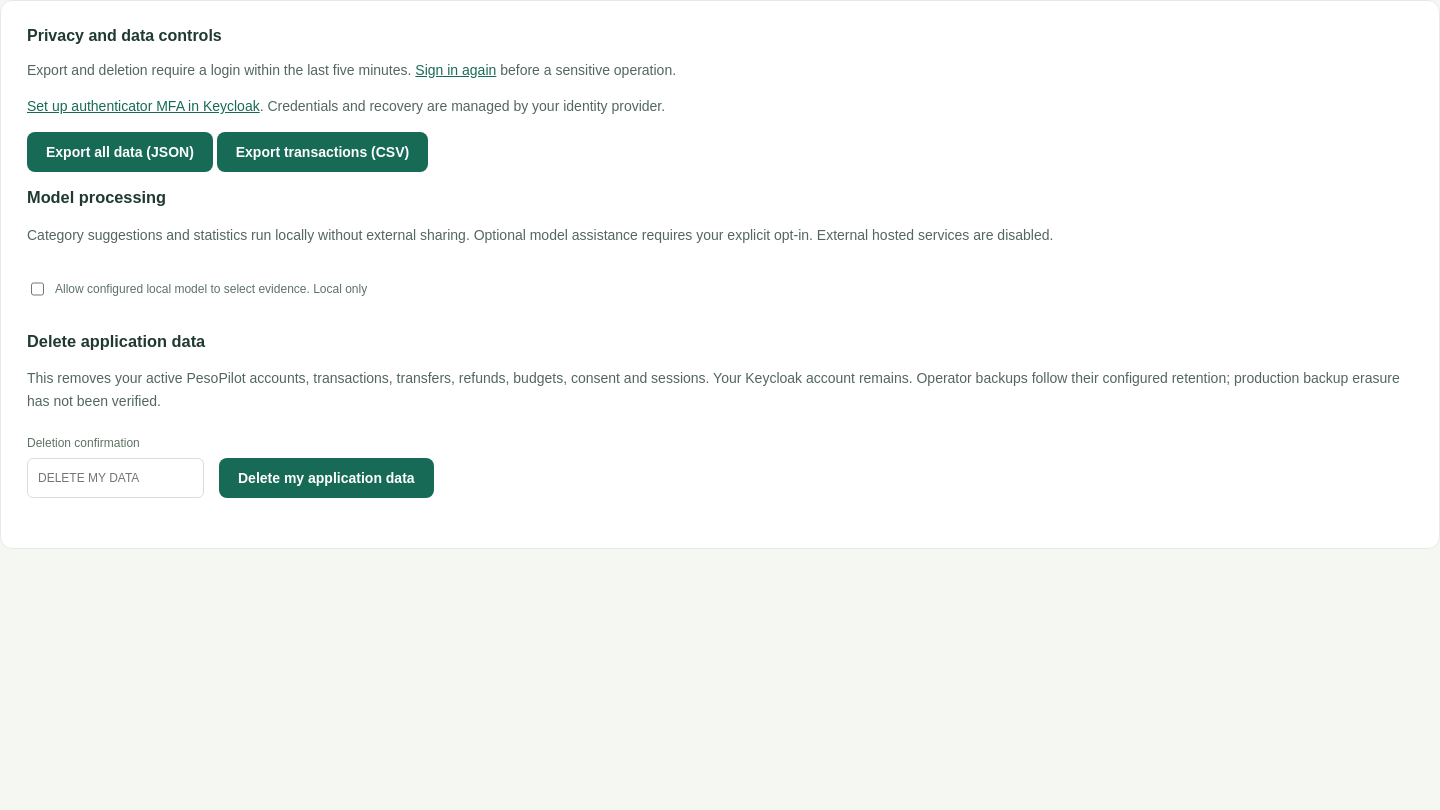
it: privacy, intelligence and sessions › restores consent when the server rejects an optimistic toggle
Click the checkbox named "Allow local model processing". click: (38, 289)
box: [31, 269, 44, 309]
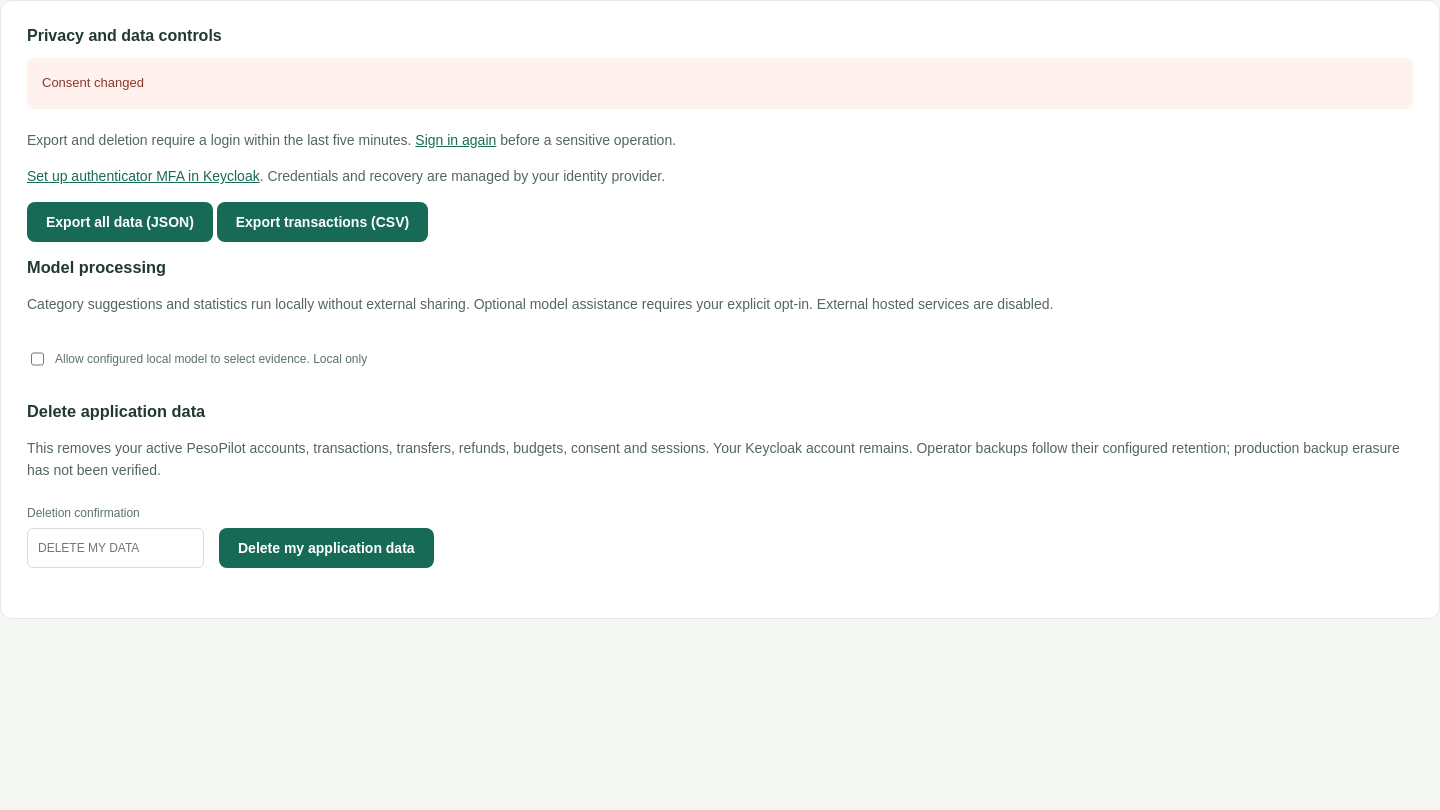
Expected: the checkbox named "Allow local model processing" is not checked, [31, 339, 44, 379]
Expected: the message "Consent changed" is shown, [27, 58, 1413, 109]
